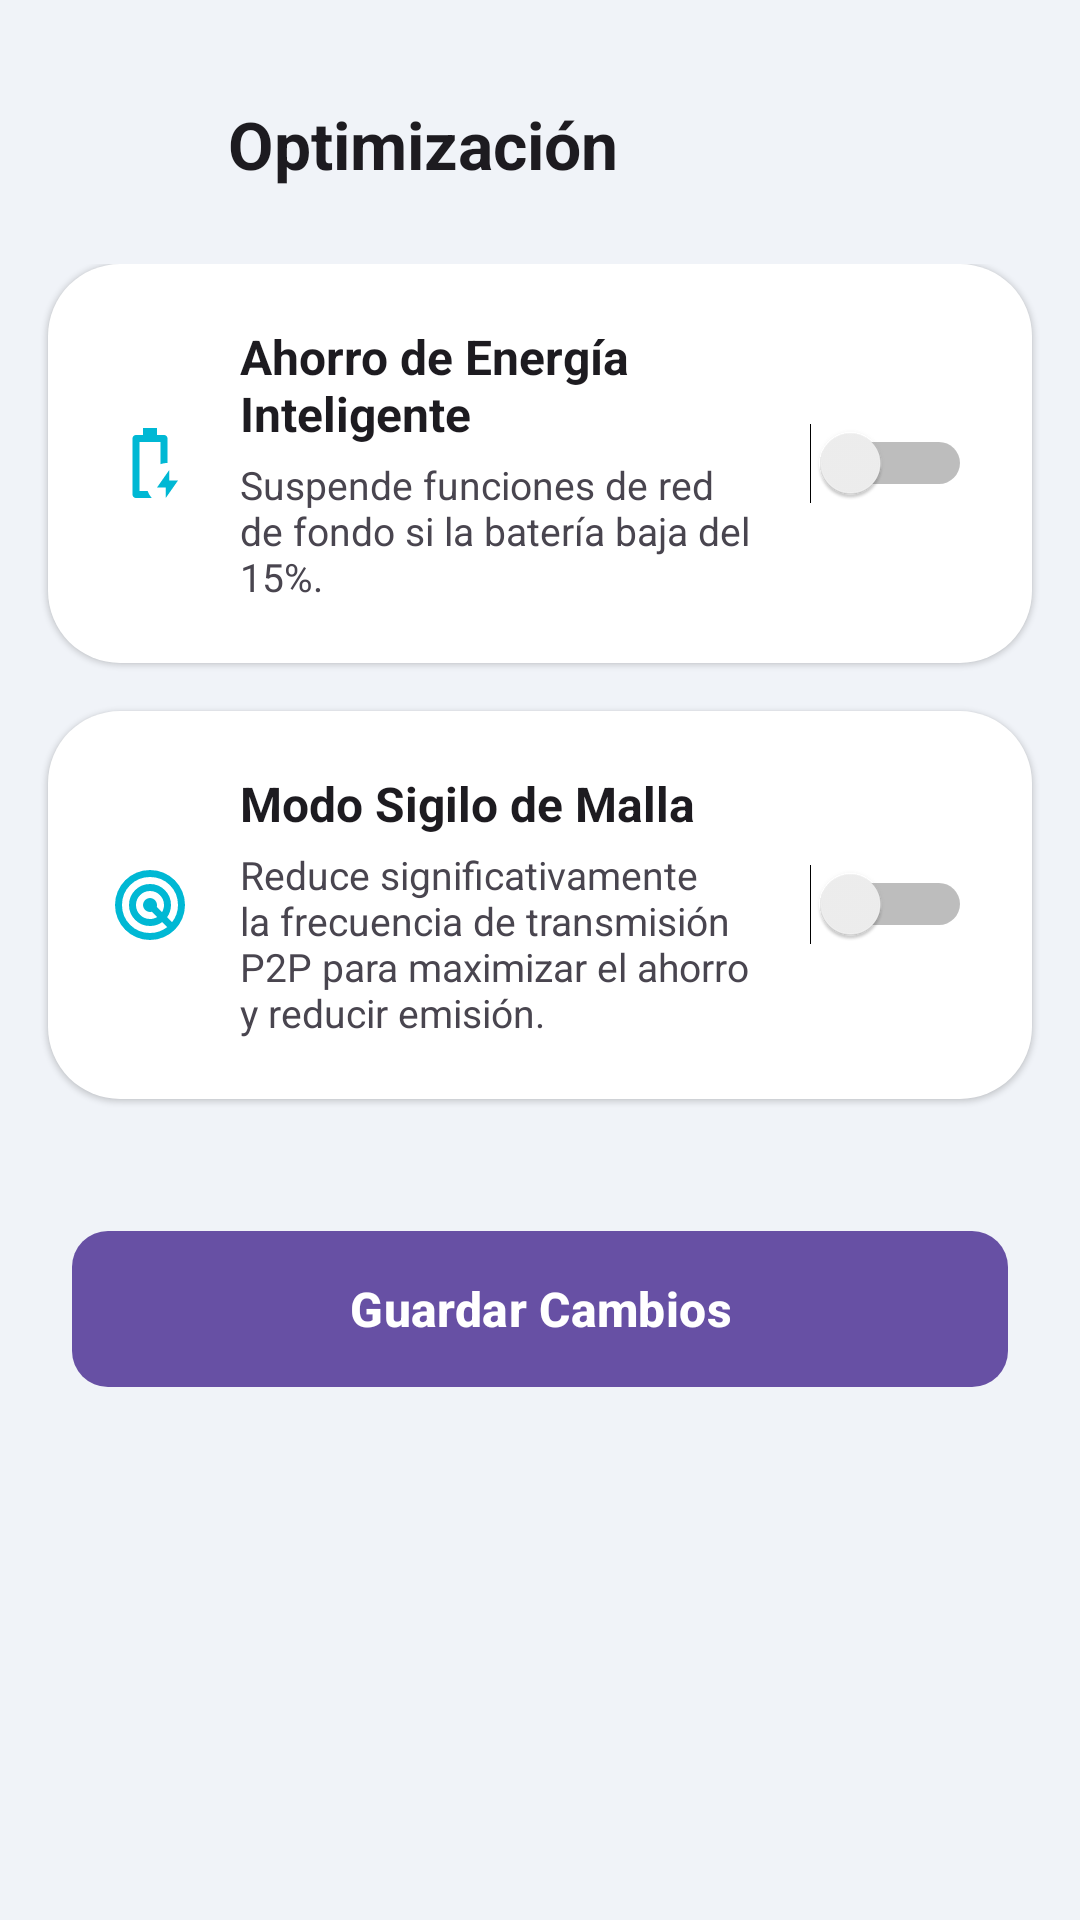

Screen size 1080px x 1920px. Icon name, then its center in pixels as (x=x, y=y):
battery: (x=155, y=463)
radar: (x=150, y=905)
